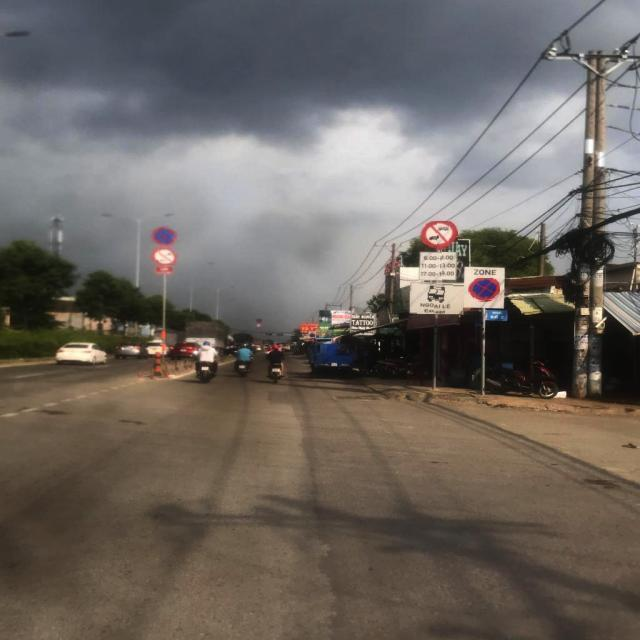107-cam-oto-khach-va-oto-tai: (420, 221, 458, 250)
130-cam-dung-va-do-xe: (467, 278, 502, 304), (152, 226, 180, 244)
